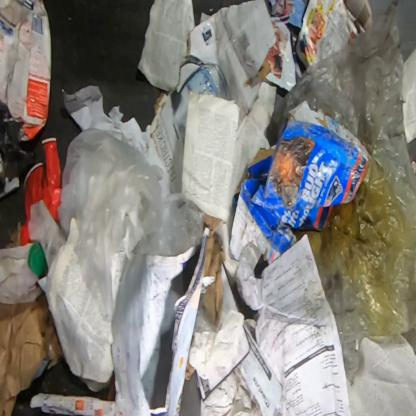cardboard: (150, 0, 278, 195), (229, 100, 373, 266), (0, 0, 53, 144)
rigid_plastic: (21, 137, 63, 247)
soft_plastic: (263, 0, 415, 383), (57, 127, 204, 322), (0, 102, 35, 196), (194, 293, 218, 334)
